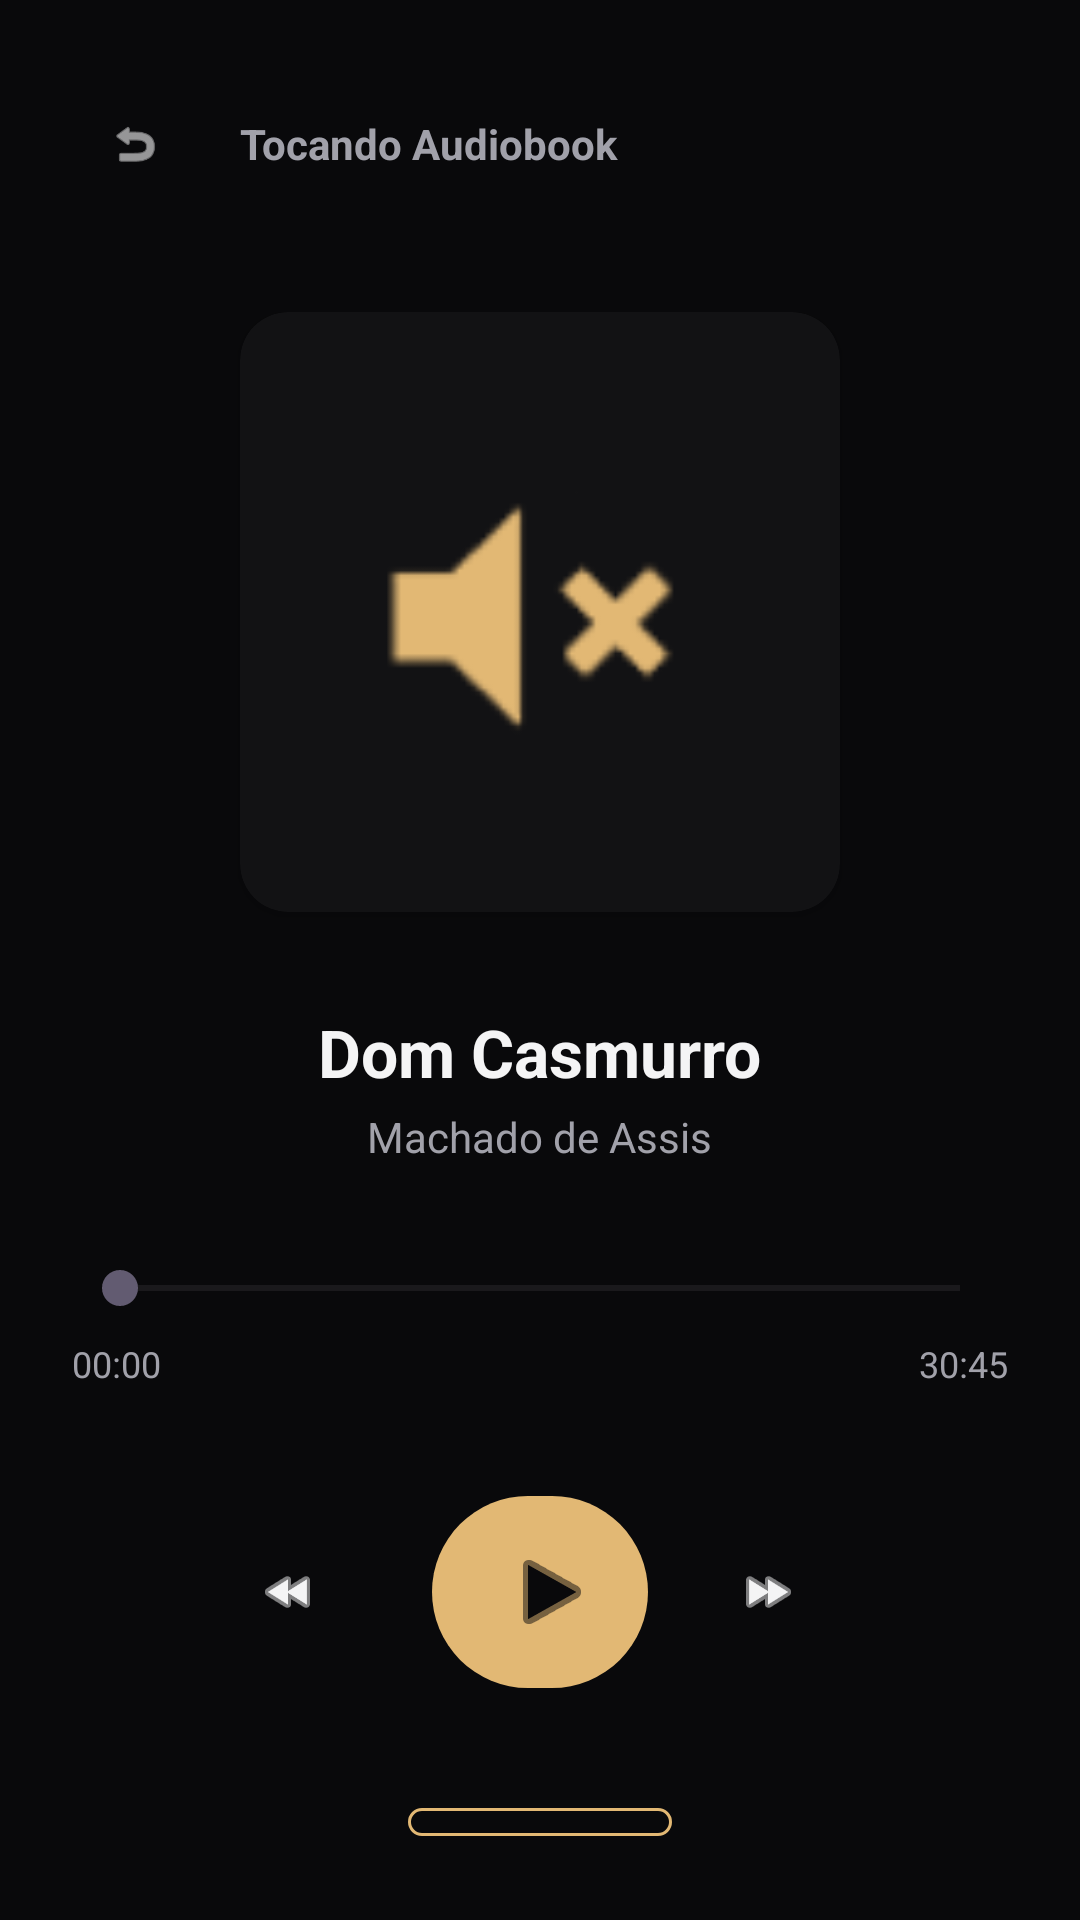

Icon click points for this 1080 x 1920 phone screenshot, format point (x, y):
play: point (540, 1592)
revert: point (135, 144)
rew: point (287, 1592)
